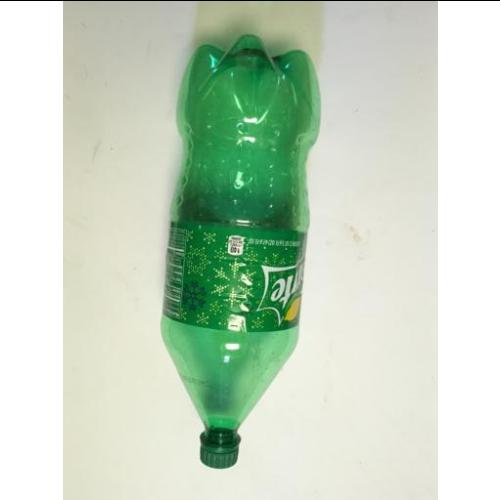plastic: (161, 34, 318, 468)
